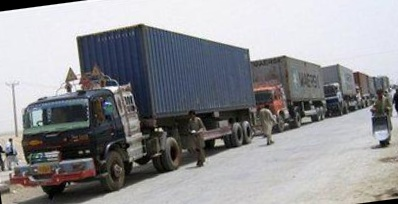truck: (1, 10, 265, 203), (250, 48, 329, 131), (321, 61, 361, 118)
